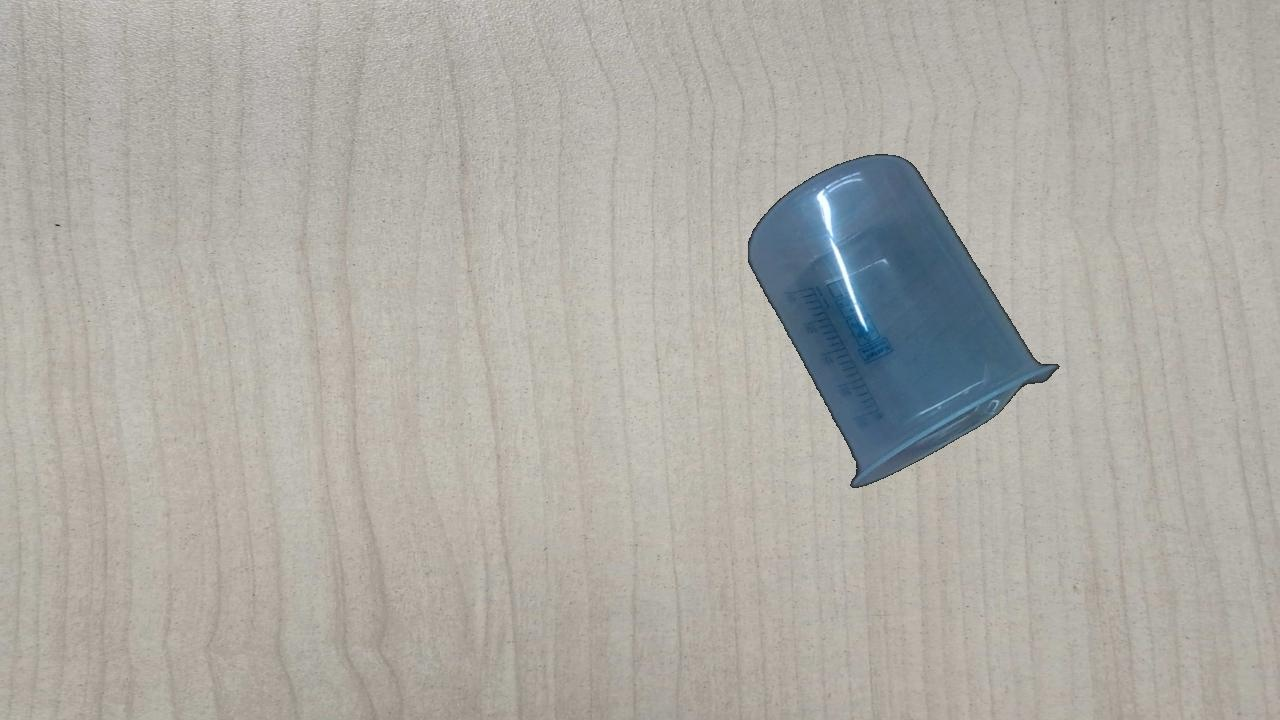cup: (746, 150, 1060, 490)
